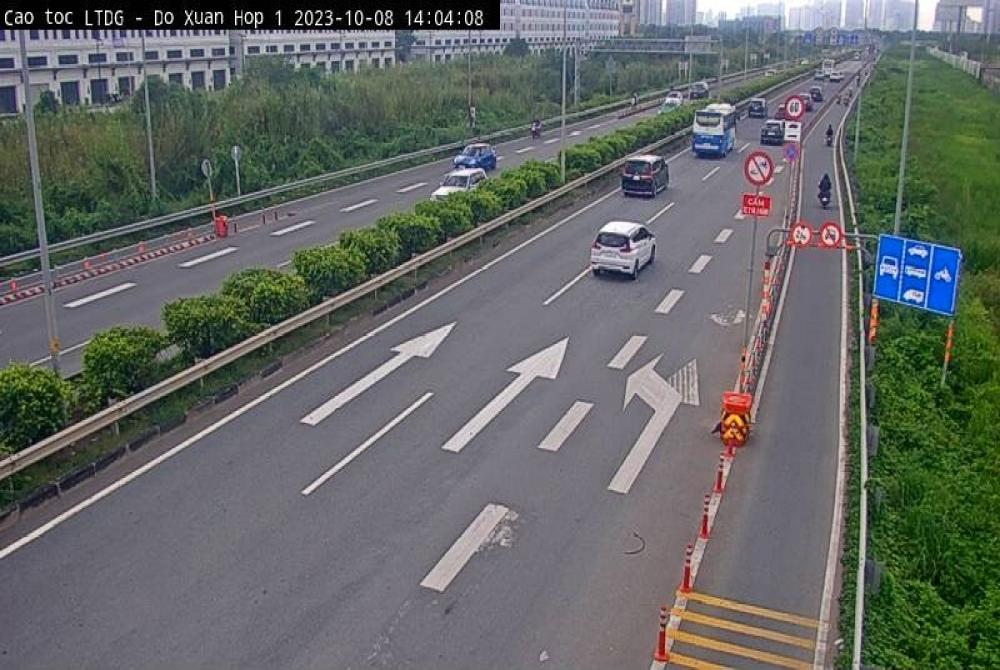bus: (689, 101, 738, 160)
car: (590, 218, 658, 280), (617, 151, 672, 201), (430, 166, 488, 200), (456, 144, 501, 172)
